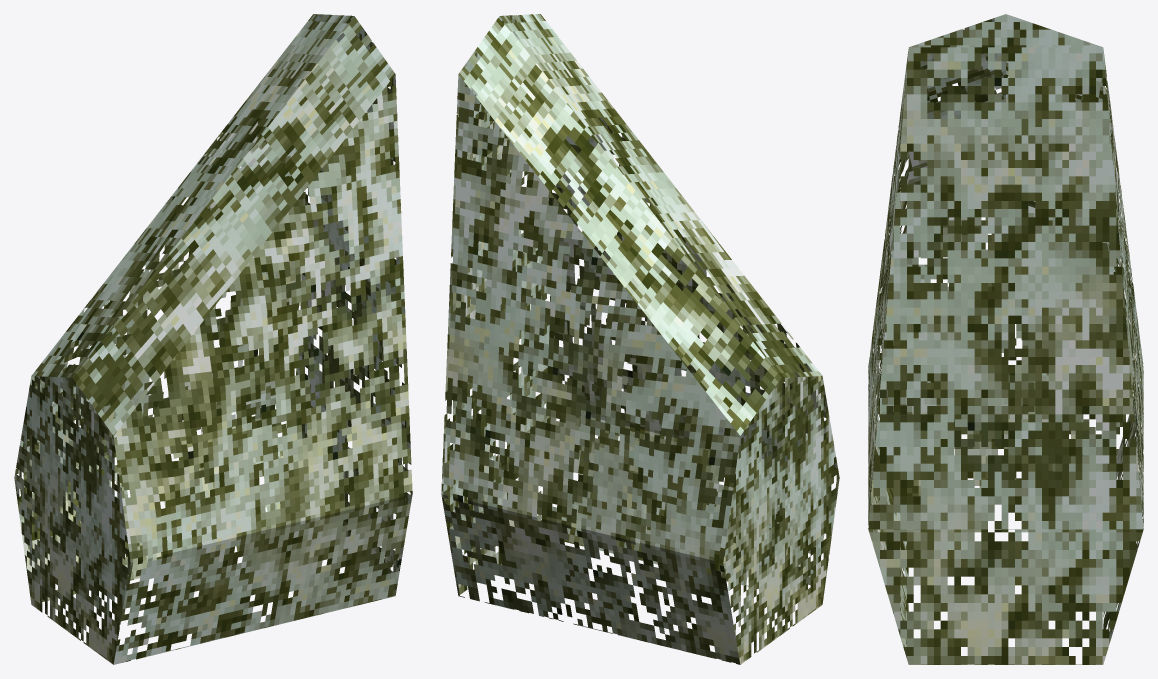
Rendered from bush_connector_straight_half_winter.glb.
3 renders of one model, left to right at view 1: azimuth 30°, elevation 25°; view 2: azimuth 150°, elevation 25°; view 3: azimuth 270°, elevation 25°, orthographic. The views are drawn at different scales.
Visible parts, largest first — view 1: bush_connector_straight_half_winter; view 2: bush_connector_straight_half_winter; view 3: bush_connector_straight_half_winter.
Boxes of the visible parts, x1=… form: bush_connector_straight_half_winter: x1=14, y1=14, x2=412, y2=664; bush_connector_straight_half_winter: x1=441, y1=14, x2=839, y2=664; bush_connector_straight_half_winter: x1=868, y1=14, x2=1143, y2=664.
Bounding box in the file's own units: 1.01 × 1.88 × 0.7191.
1 material, 1 textured.
